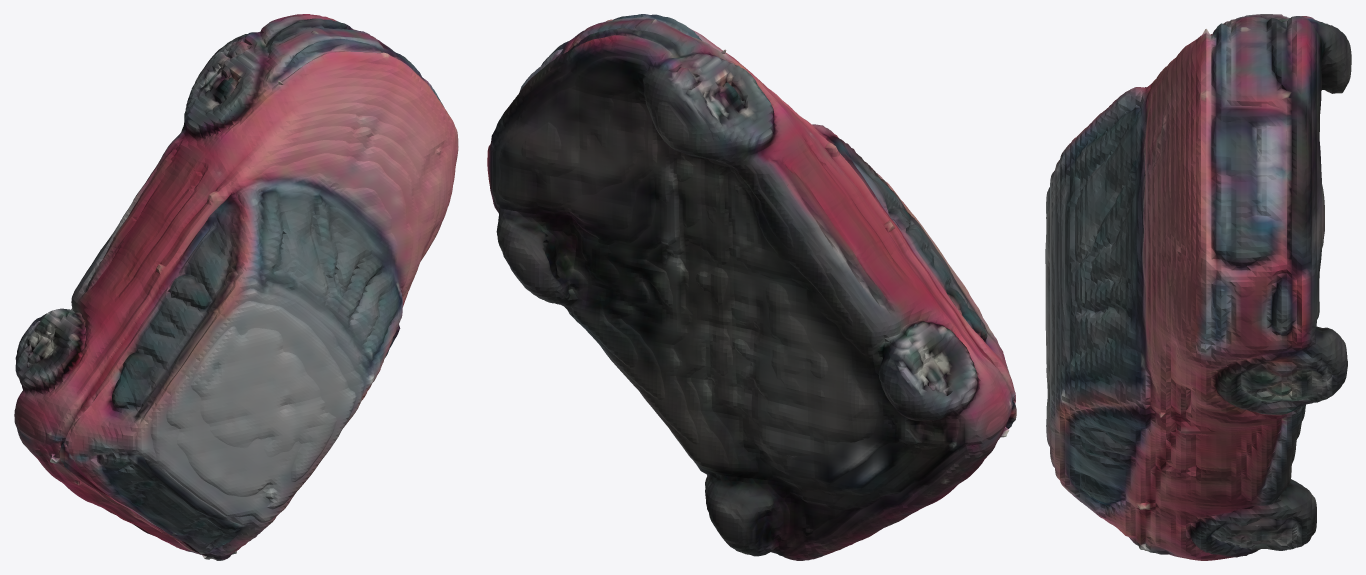
3 views of the same model, side by side, from view 1: azimuth 30°, elevation 25°; view 2: azimuth 150°, elevation 25°; view 3: azimuth 270°, elevation 25° (orthographic). The views are drawn at different scales.
Parts seen in each view (by area): view 1: world; view 2: world; view 3: world.
Boxes of the visible parts, x1,y1,x2,y2 form: world: (14, 14, 458, 560); world: (487, 14, 1016, 560); world: (1045, 14, 1351, 560).
Size of the model in its own units: 0.8822 by 0.9144 by 0.4144.
